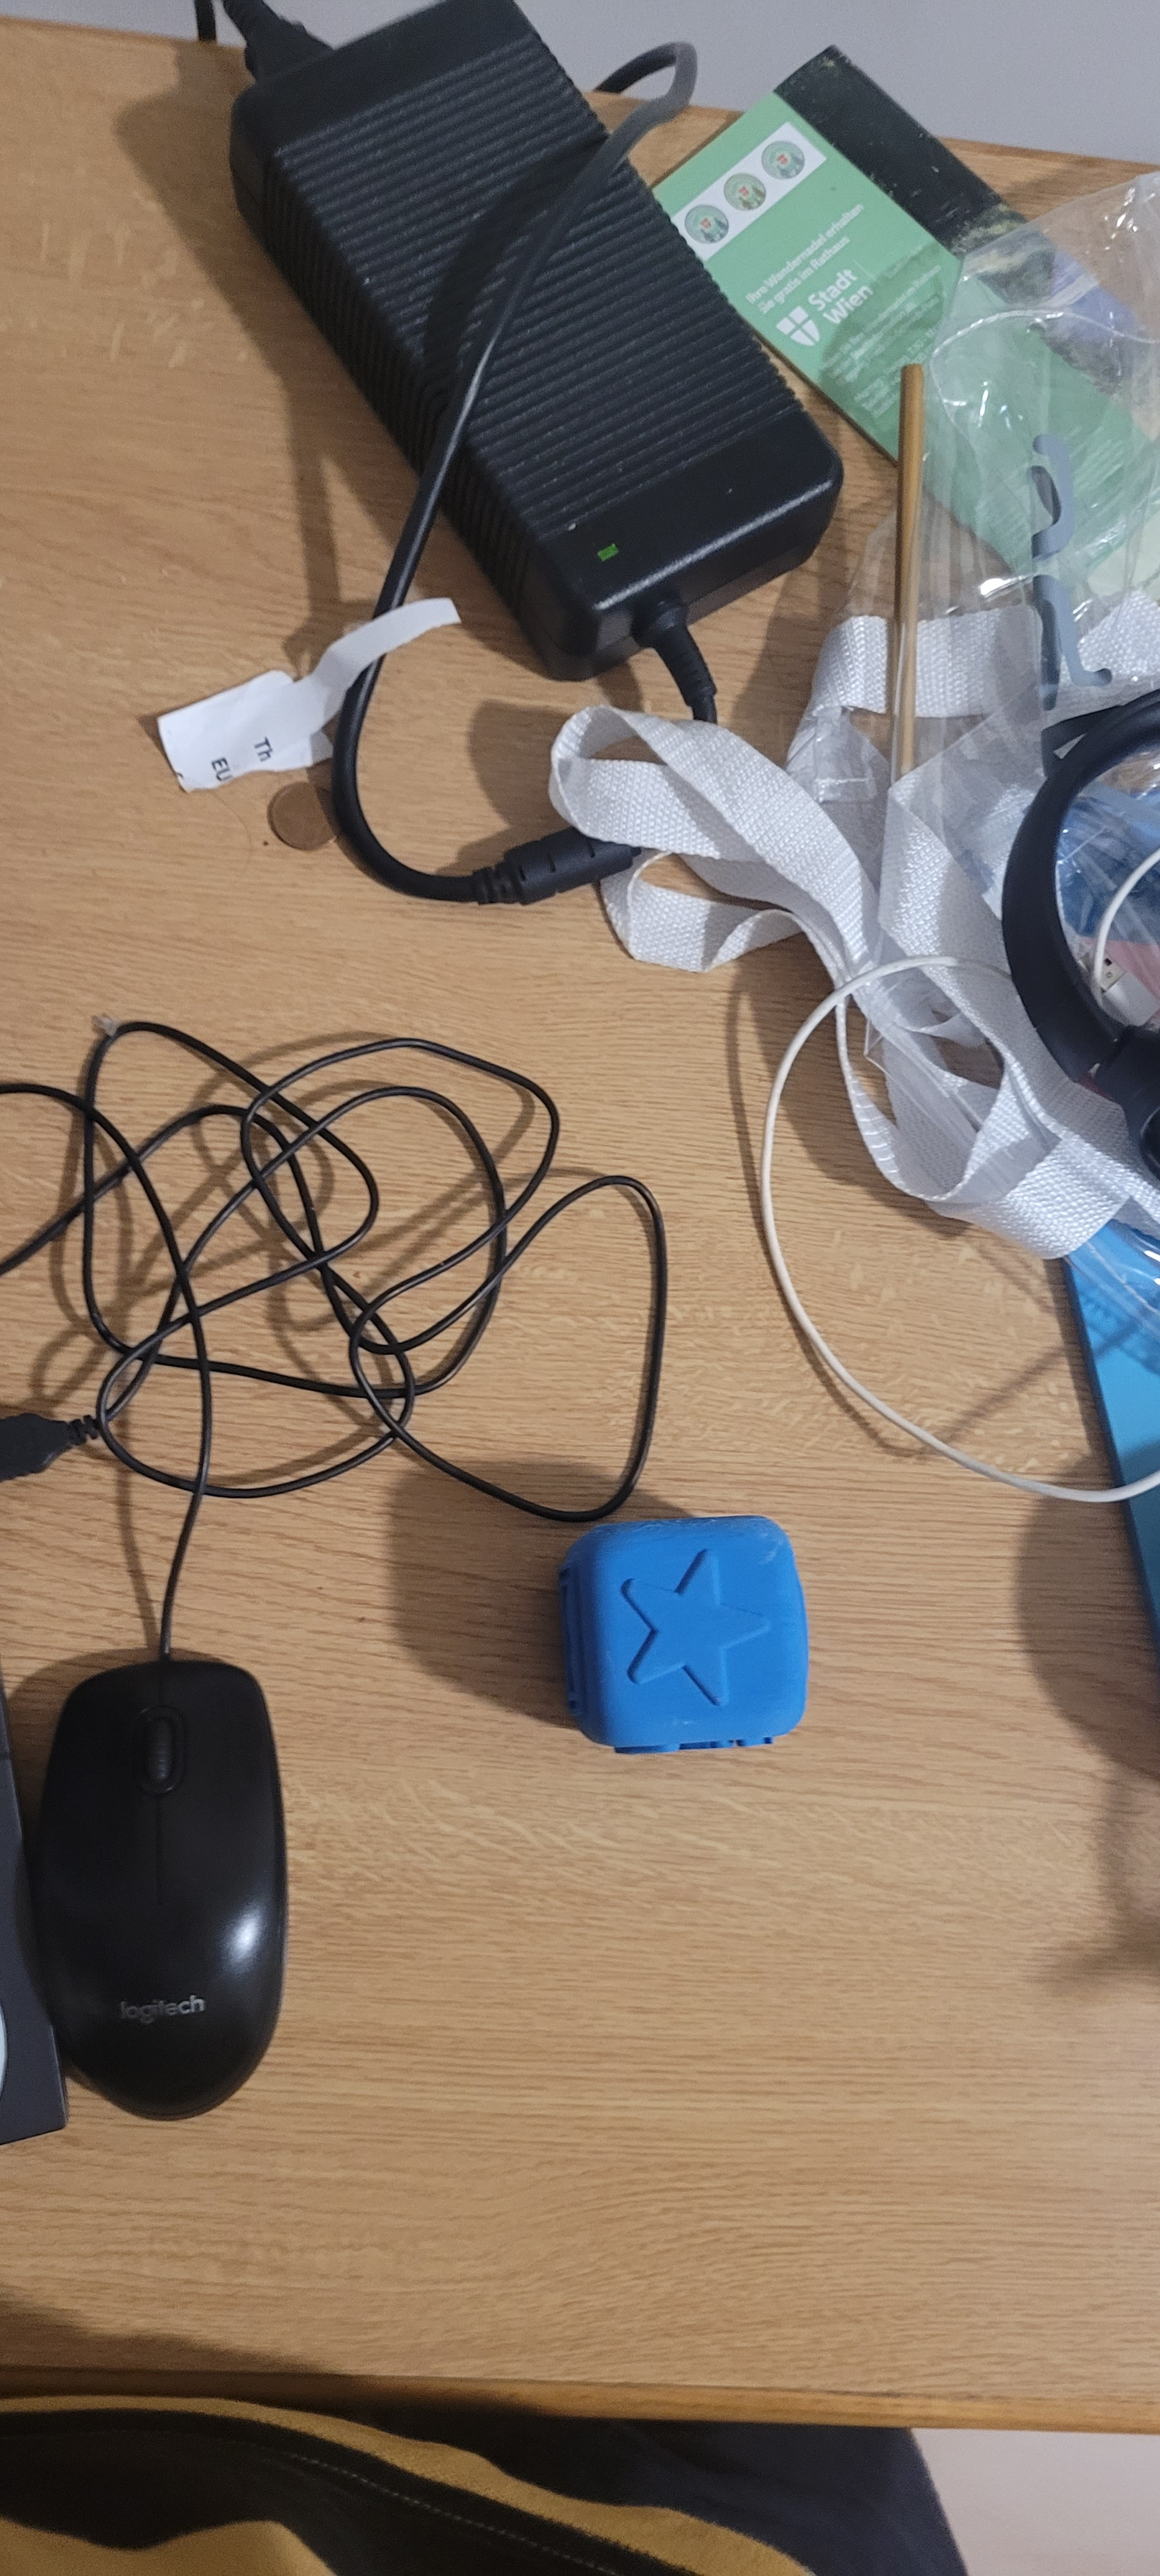Star: (600, 1556, 825, 1732)
